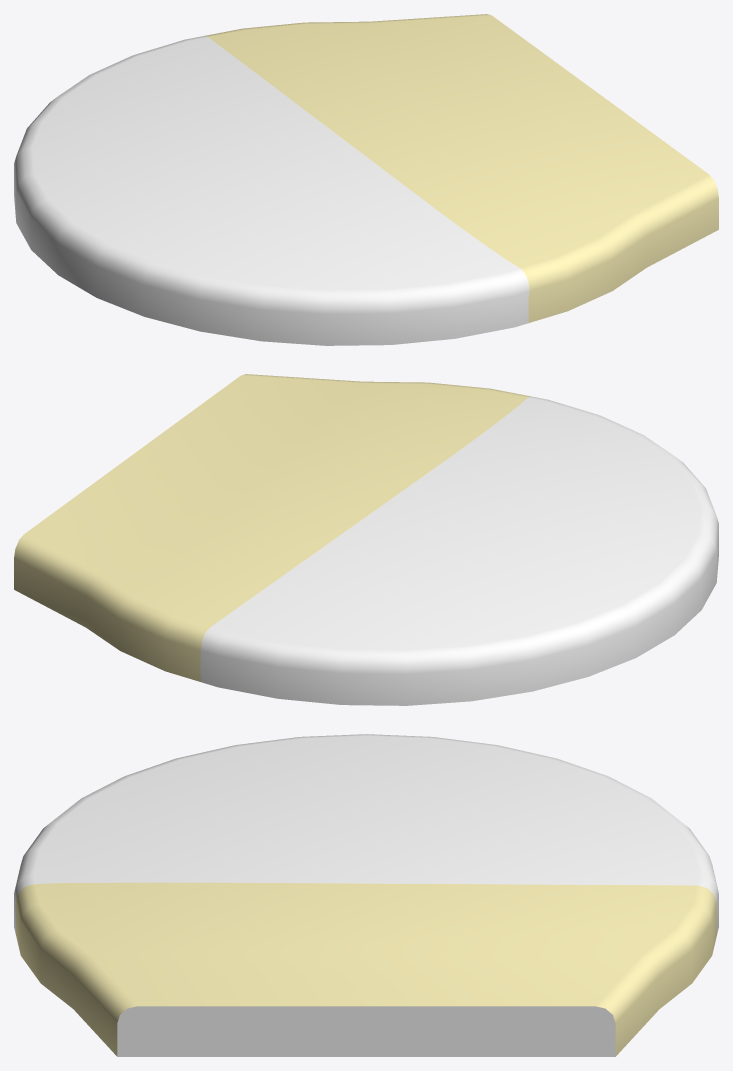
Rendered from StartCircle_yellow.fbx.
3 renders of one model, top to bottom at view 1: azimuth 30°, elevation 25°; view 2: azimuth 150°, elevation 25°; view 3: azimuth 270°, elevation 25°, orthographic. The views are drawn at different scales.
Visible parts, largest first — view 1: StartCircle_yellow; view 2: StartCircle_yellow; view 3: StartCircle_yellow.
Part boxes in pixels (left/top/right/bottom): StartCircle_yellow: left=14, top=14, right=718, bottom=345; StartCircle_yellow: left=14, top=374, right=718, bottom=705; StartCircle_yellow: left=14, top=734, right=718, bottom=1056.
Bounding box in the file's own units: 397 × 33.61 × 424.
1 material, 1 textured.
